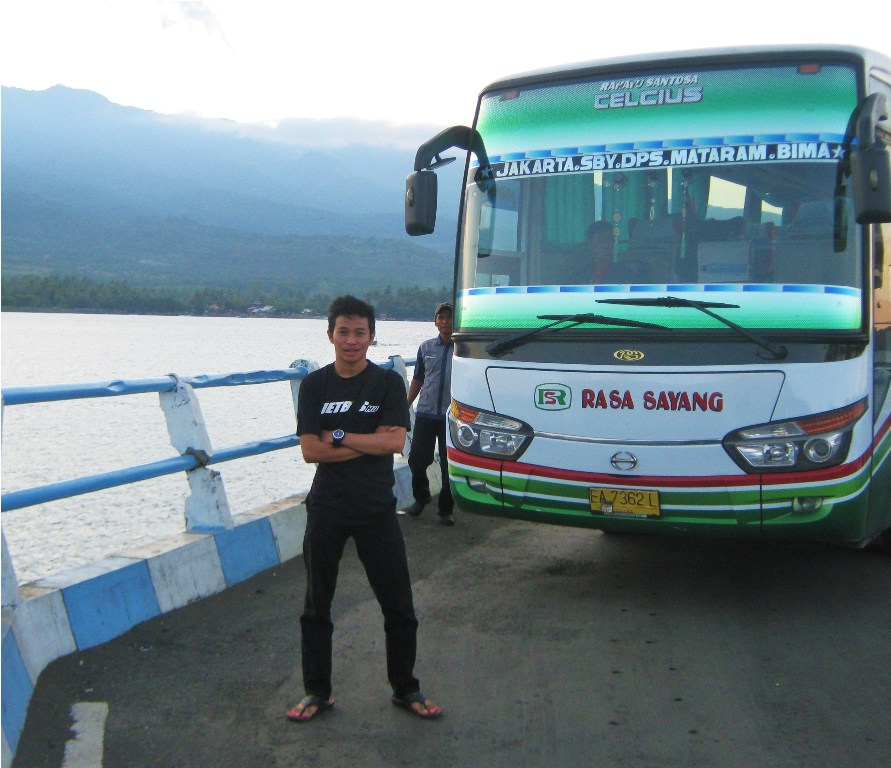plate: (587, 488, 661, 516)
